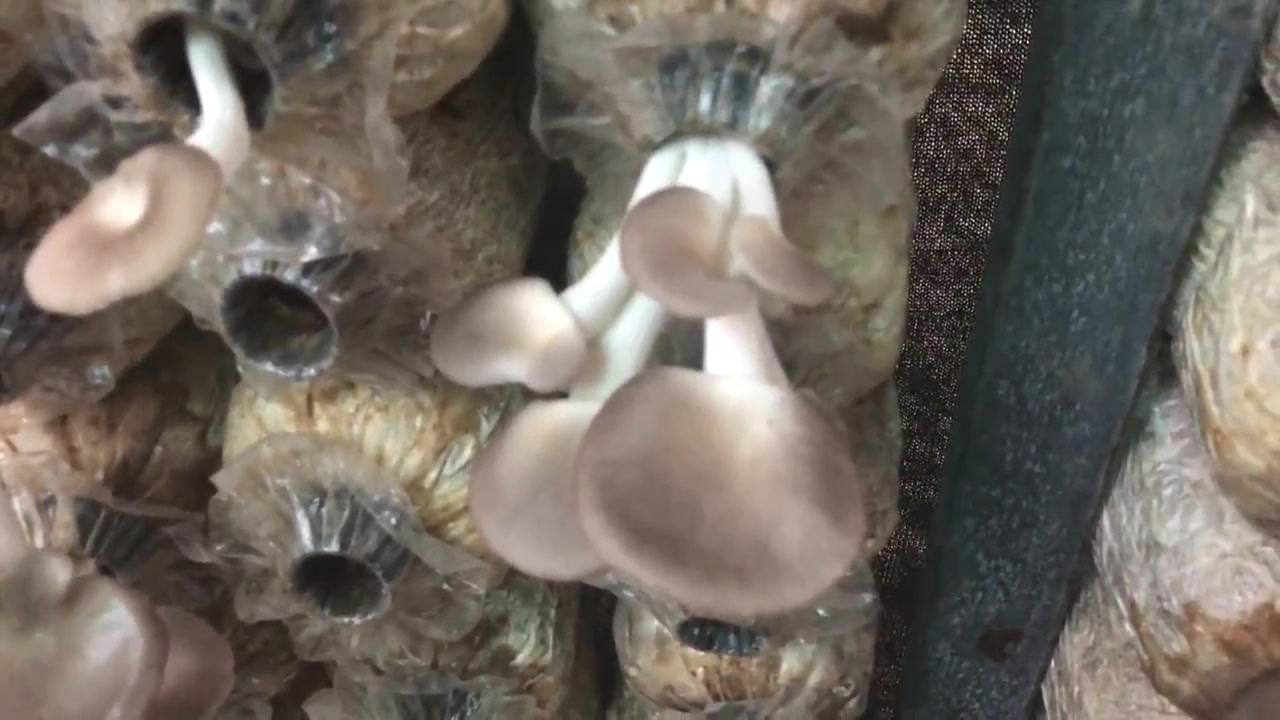nam: (436, 63, 864, 607), (25, 1, 310, 317), (1, 548, 239, 720)
